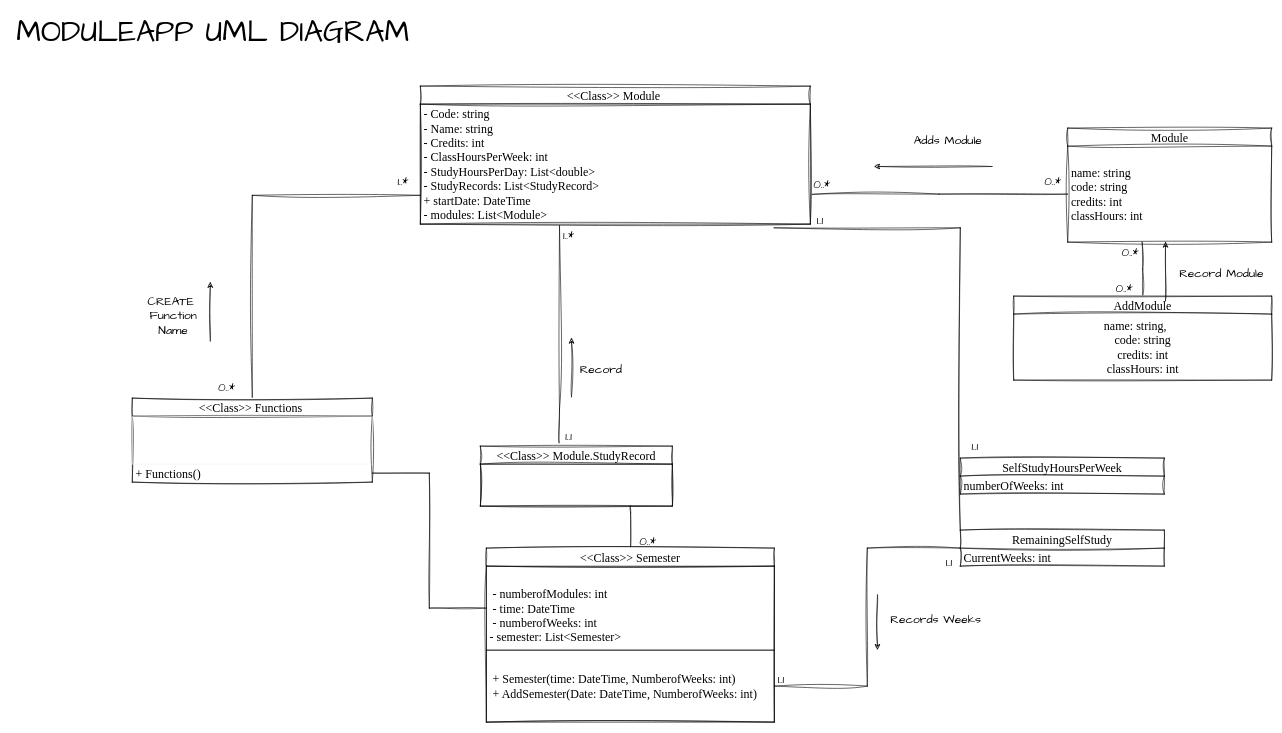
Some shapes in this 1282 by 733 pixel diagram are drawn without their labels. Each missing label, with the centre of its shape:
- Hours: double - Date: DateTime: (x=576, y=485)
- module: Module - semester: Semester: (x=252, y=440)
